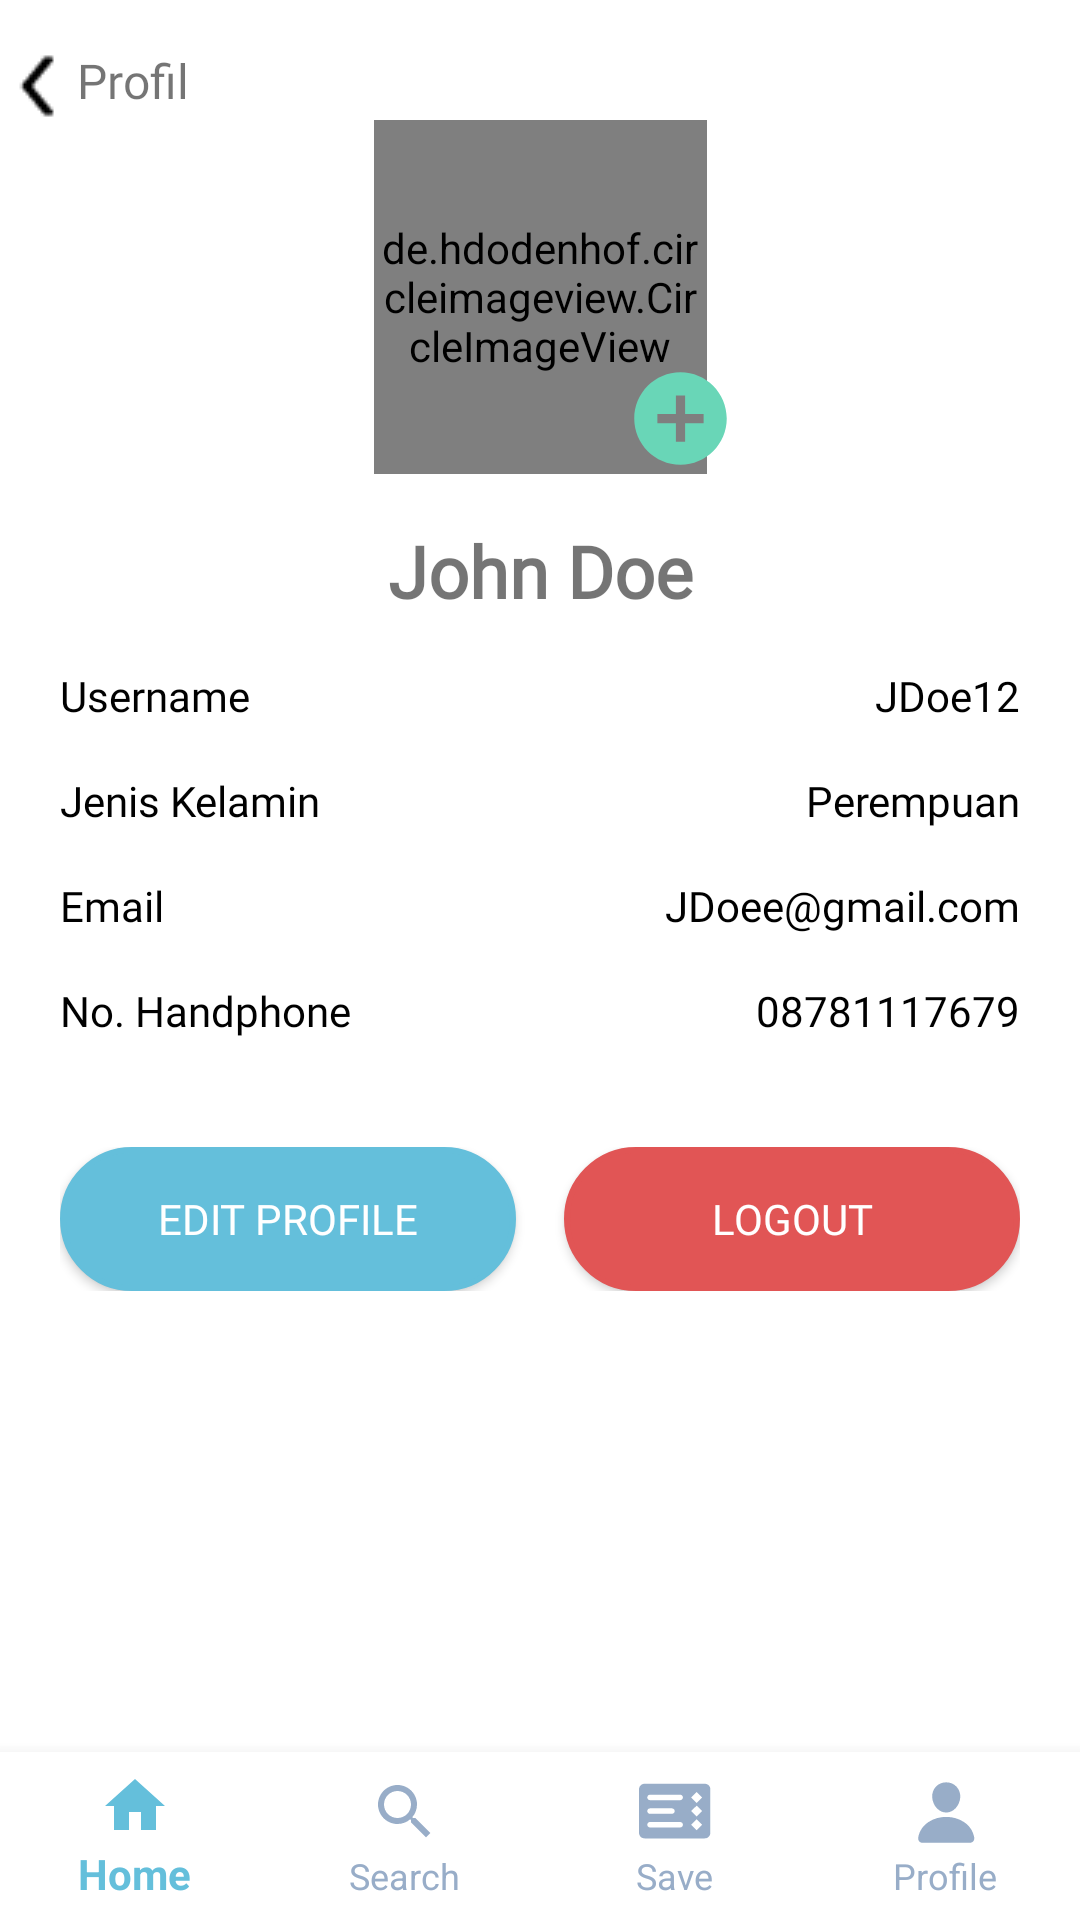

Icons on this 1080px×1920px Android screen, each with its box as bbox(x1, y1, x2, y2):
panah: bbox(20, 55, 54, 117)
